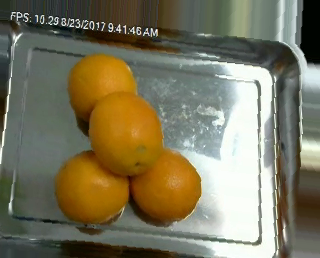Orange: (88, 91, 163, 174), (54, 150, 130, 223), (67, 52, 139, 125), (131, 148, 201, 223)
